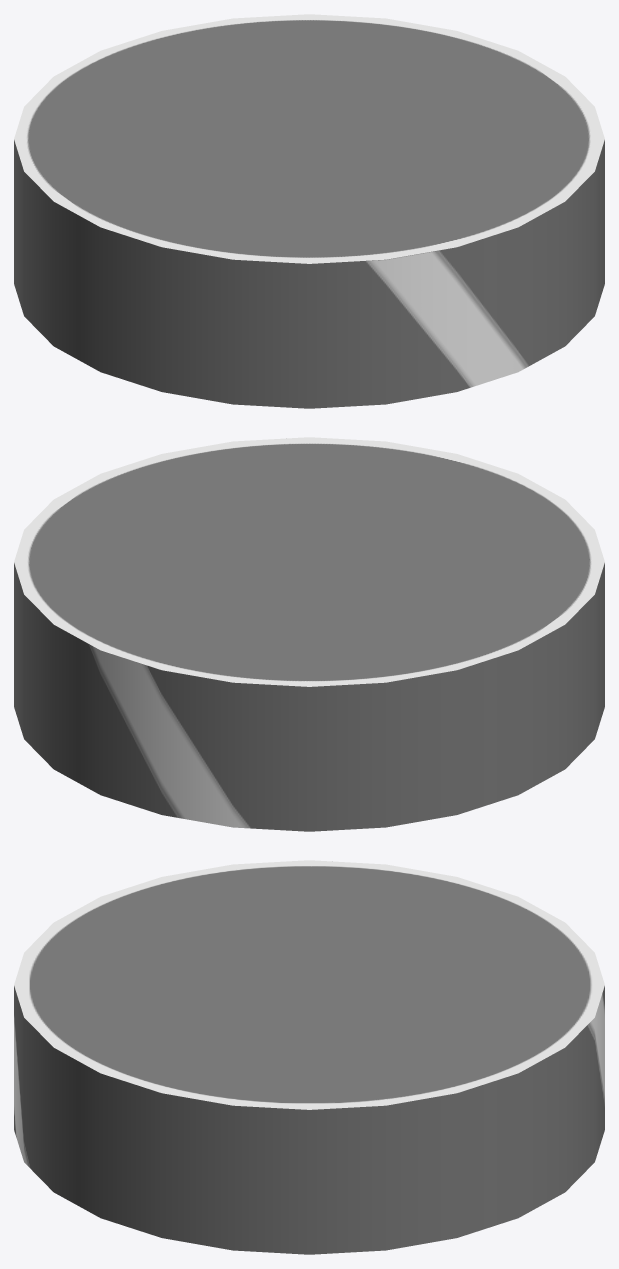
The model's file is CircleParticleModel.fbx.
3 renders of one model, top to bottom at view 1: azimuth 30°, elevation 25°; view 2: azimuth 150°, elevation 25°; view 3: azimuth 270°, elevation 25°, orthographic.
Parts seen in each view (by area): view 1: pCylinder1; view 2: pCylinder1; view 3: pCylinder1.
Boxes of the visible parts, x1,y1,x2,y2 form: pCylinder1: (14,14,604,408); pCylinder1: (14,437,604,831); pCylinder1: (14,860,604,1254).
Size of the model in its own units: 16.81 by 4.54 by 16.81.
